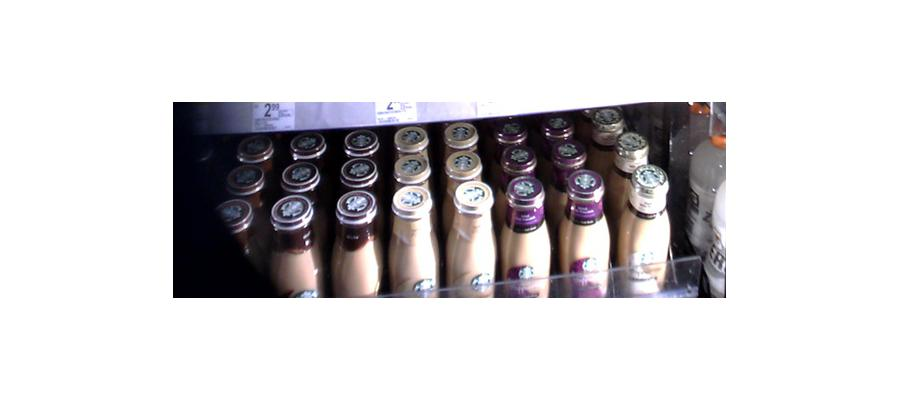bottle: (683, 106, 729, 295), (617, 165, 673, 297), (557, 169, 613, 297), (498, 169, 550, 299), (442, 177, 495, 297), (387, 181, 439, 296), (326, 184, 380, 294), (270, 195, 320, 294)
